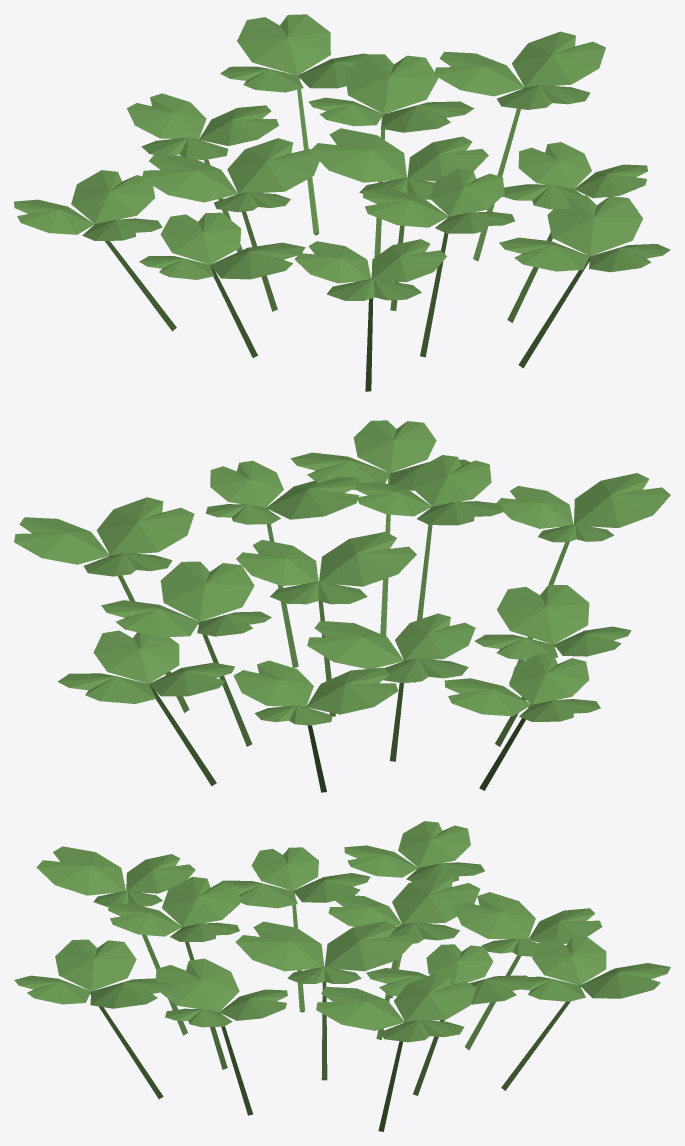
The model's file is clover_patch.glb.
The picture shows the model from 3 angles, top to bottom: view 1: azimuth 30°, elevation 25°; view 2: azimuth 150°, elevation 25°; view 3: azimuth 270°, elevation 25°; orthographic projection. The views are drawn at different scales.
Parts seen in each view (by area): view 1: clover_patch; view 2: clover_patch; view 3: clover_patch.
Part boxes in pixels (x1,y1,x2,y2): clover_patch: [14, 14, 670, 391]; clover_patch: [14, 420, 670, 792]; clover_patch: [14, 821, 670, 1131].
Size of the model in its own units: 0.3095 by 0.09 by 0.3317.
